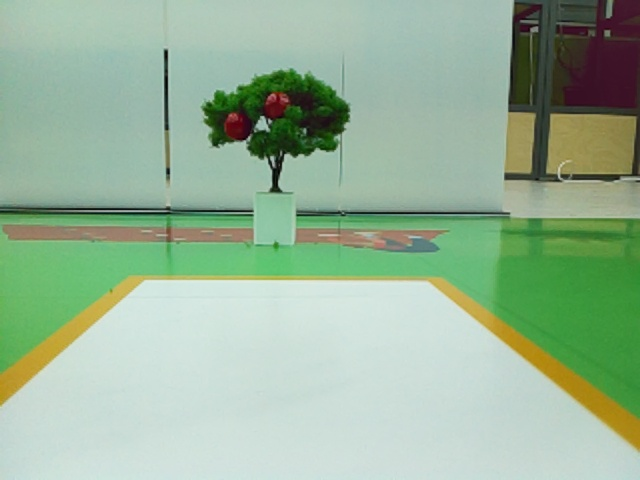apple: (265, 93, 289, 117), (224, 113, 244, 139)
